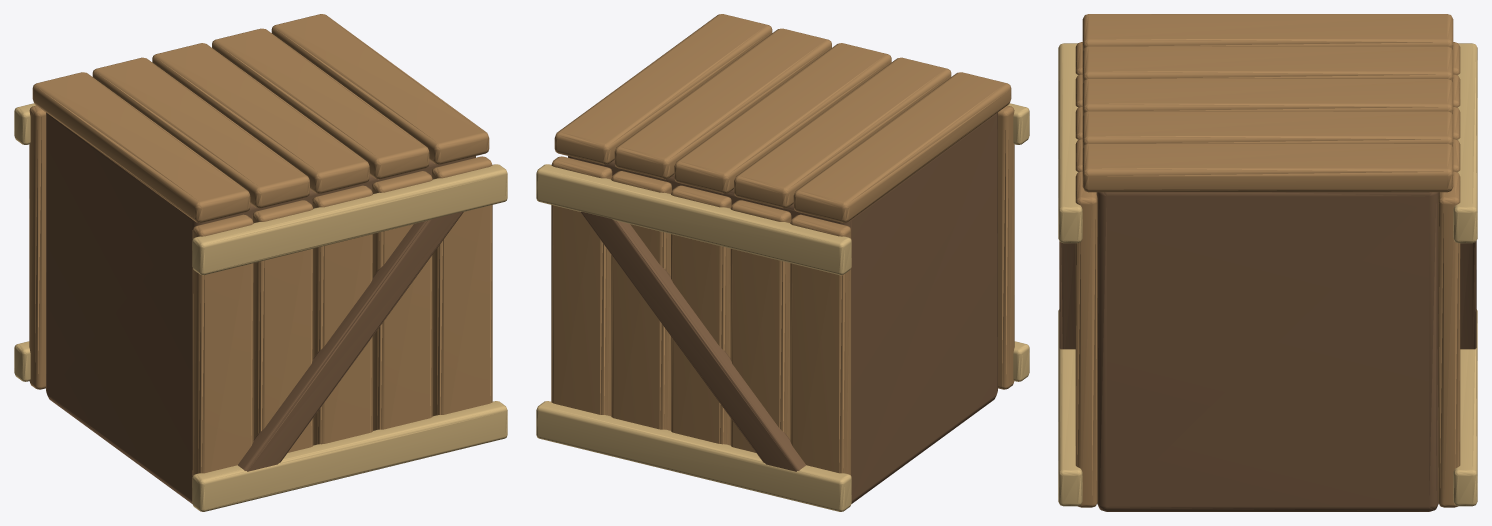
The model's file is wooden_crate.glb.
3 views of the same model, side by side, from view 1: azimuth 30°, elevation 25°; view 2: azimuth 150°, elevation 25°; view 3: azimuth 270°, elevation 25° (orthographic). The views are drawn at different scales.
Visible parts, largest first — view 1: Keep_Mesh; view 2: Keep_Mesh; view 3: Keep_Mesh.
Boxes of the visible parts, x1=… form: Keep_Mesh: x1=14, y1=14, x2=507, y2=511; Keep_Mesh: x1=536, y1=14, x2=1029, y2=511; Keep_Mesh: x1=1058, y1=14, x2=1477, y2=511.
Size of the model in its own units: 0.98 by 0.9525 by 1.04.
